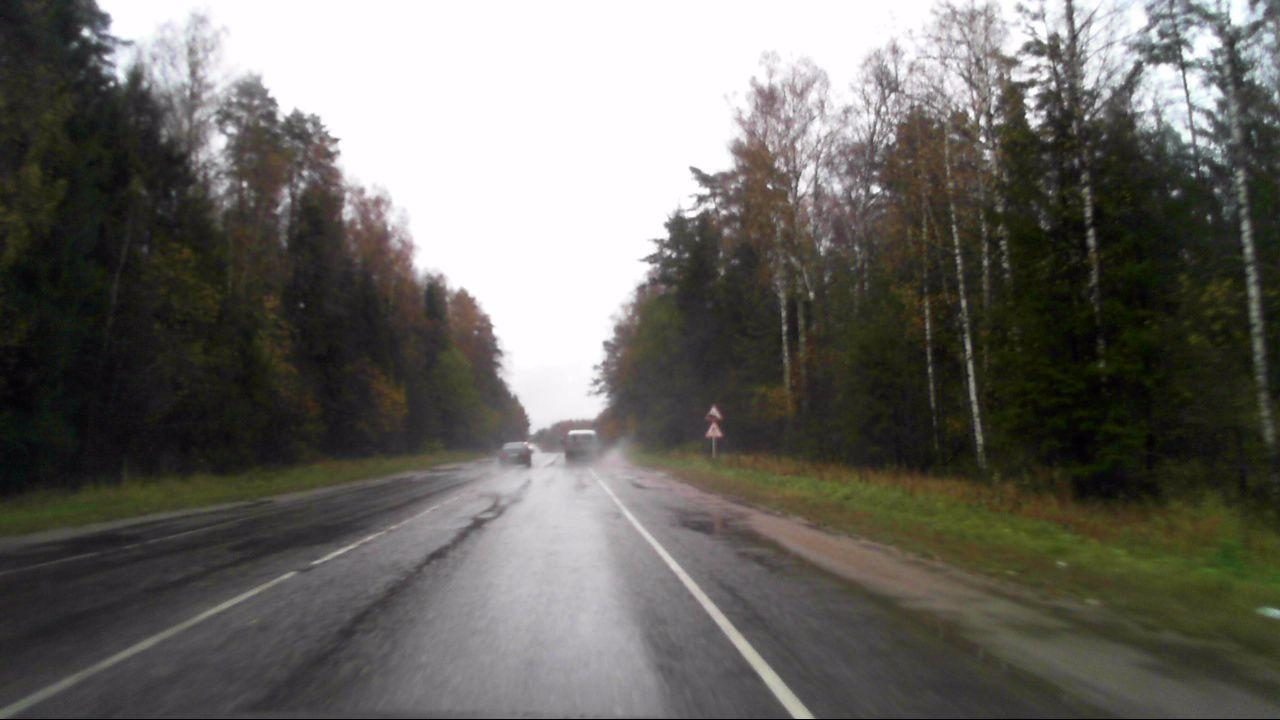1_13: (703, 402, 724, 421)
1_22: (705, 423, 722, 437)
